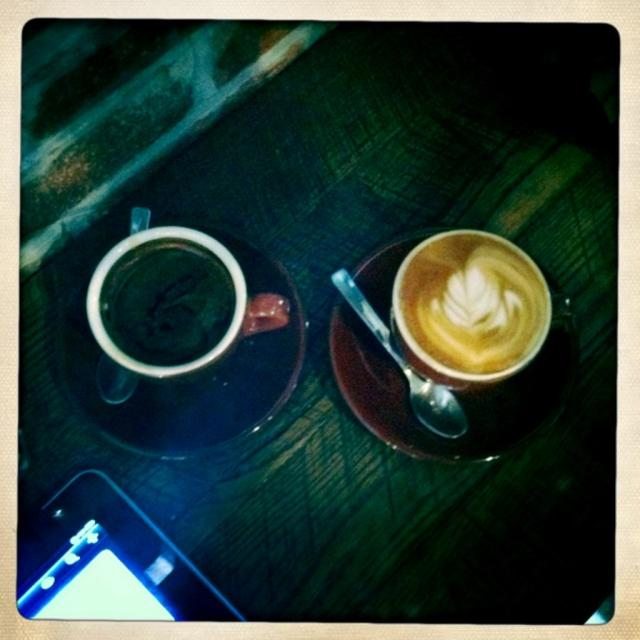Coffee: (400, 232, 554, 372)
